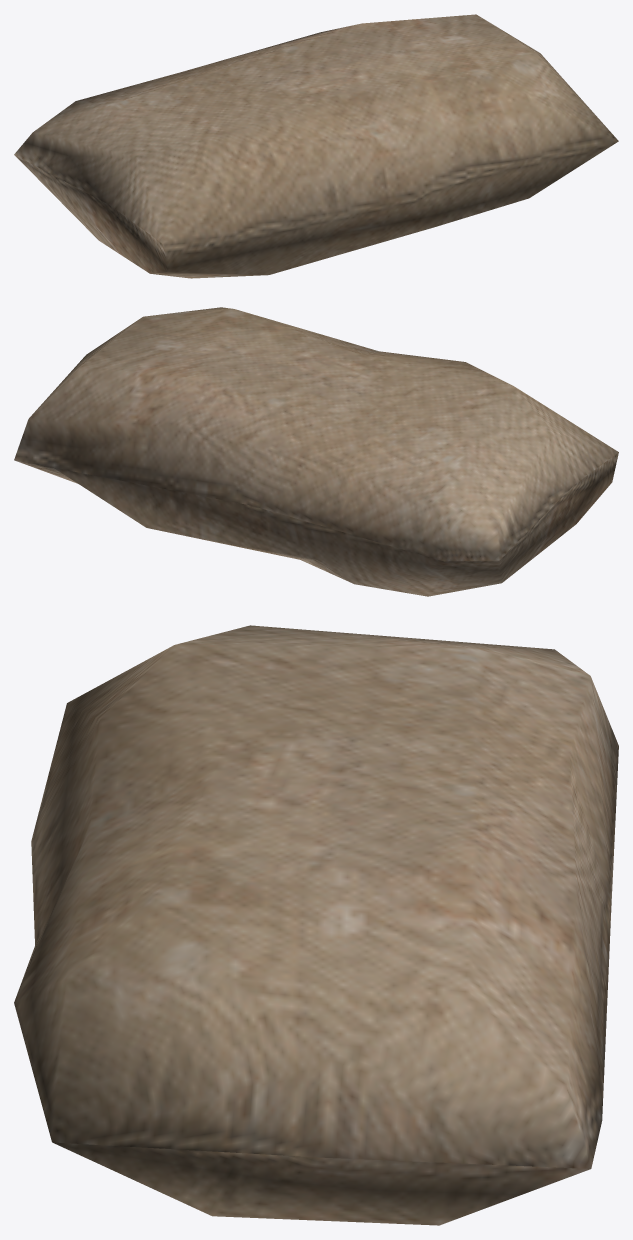
File: Sandbags_1B_LOD1.fbx
3 renders of one model, top to bottom at view 1: azimuth 30°, elevation 25°; view 2: azimuth 150°, elevation 25°; view 3: azimuth 270°, elevation 25°, orthographic. The views are drawn at different scales.
Parts seen in each view (by area): view 1: Bag3_100tris_Group24317; view 2: Bag3_100tris_Group24317; view 3: Bag3_100tris_Group24317.
Part boxes in pixels (<box>): Bag3_100tris_Group24317: <box>14,14,618,278</box>; Bag3_100tris_Group24317: <box>14,307,618,596</box>; Bag3_100tris_Group24317: <box>14,625,618,1225</box>.
Bounding box in the file's own units: 1.01 × 0.3053 × 0.5614.
